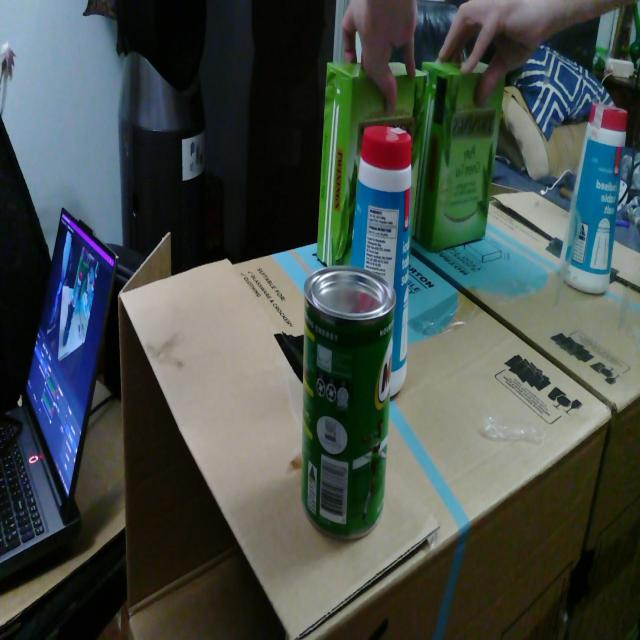nestle_milo_tin: (301, 265, 396, 539)
twinings_greentea_box: (317, 63, 427, 267)
woolworths_salt_bottle: (351, 125, 411, 397)
